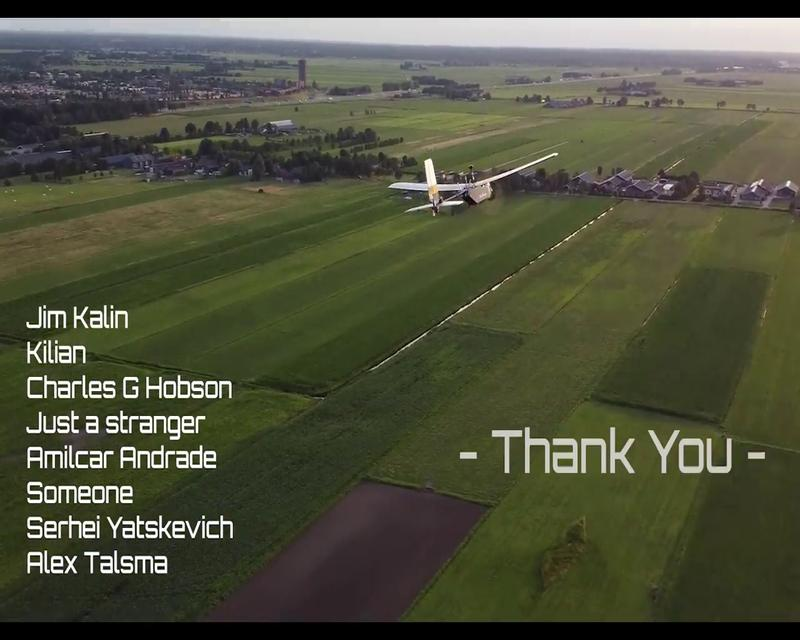UAV: (387, 149, 559, 218)
